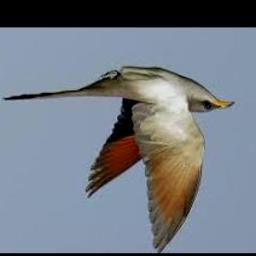Cuckoo: (4, 68, 233, 253)
